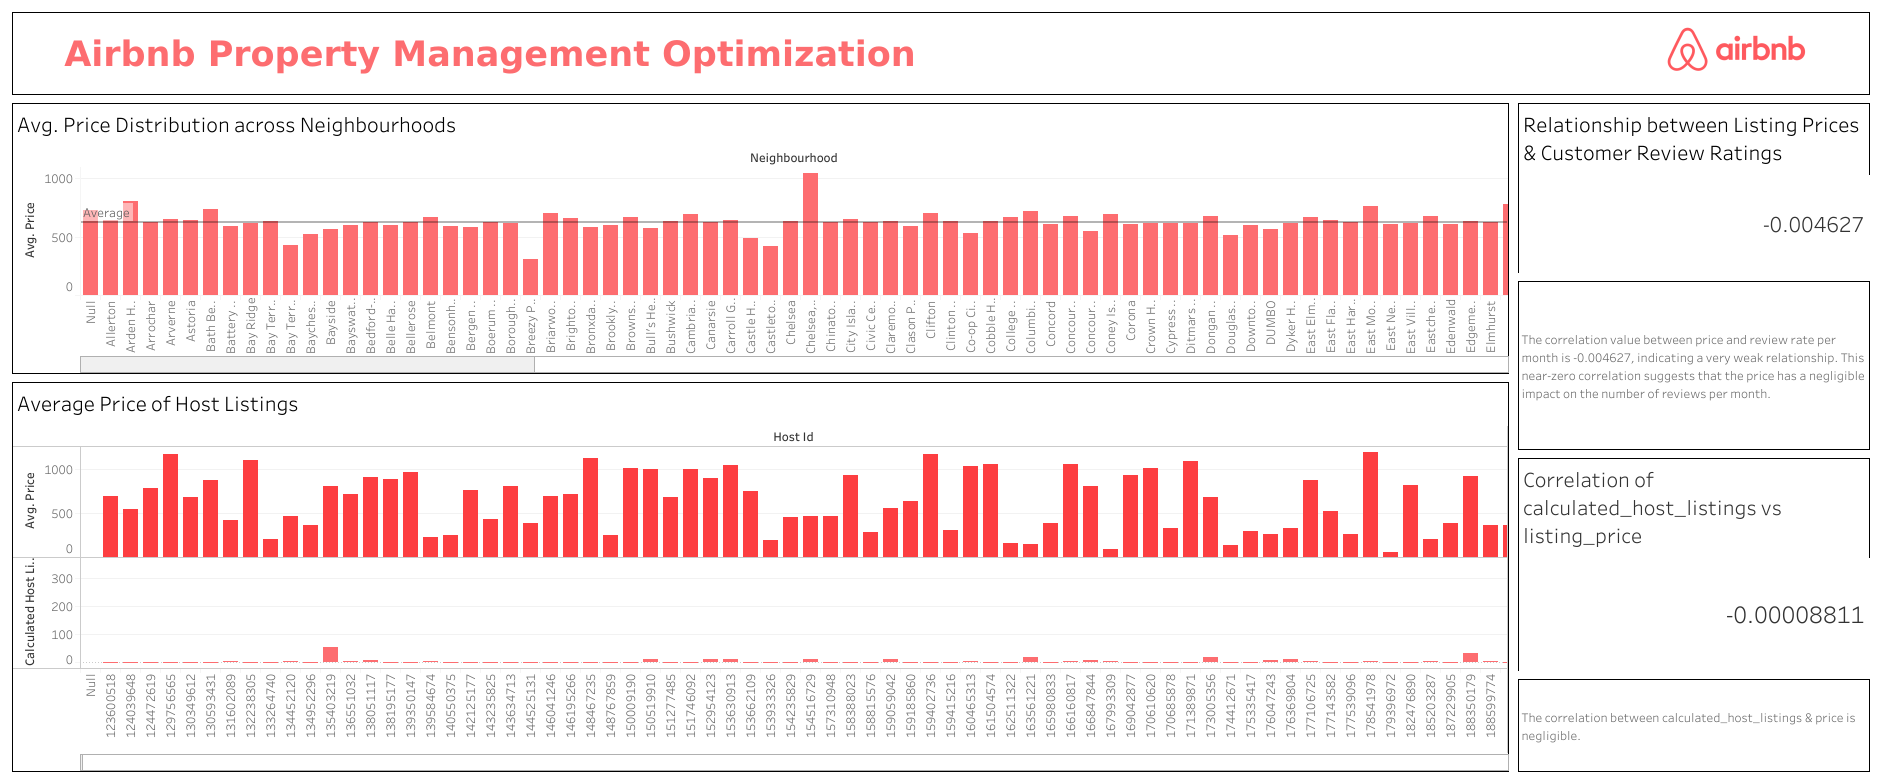

The dashboard page shown, as its layout file describes it:
{"tool":"tableau","page":{"name":"Dashboard 1 (3)","canvas":[1000,1000],"units":"permille","ordinal":2},"visuals":[{"type":"image","param":"E:/Data_Analytics/WsCube/Projects/AirBnb/images/logo.png","box":[879.9,4.9,115.3,115.9]},{"type":"text","box":[4.2,9.9,991.5,115.9]},{"type":"worksheet","title":"Sheet 9","mark":"Automatic","rows":["price"],"cols":["neighbourhood"],"box":[4.2,125.8,800,356.4]},{"type":"worksheet","title":"Sheet 4","mark":"Automatic","box":[804.2,125.8,191.6,226.9]},{"type":"text","box":[804.2,352.7,191.6,226.9]},{"type":"worksheet","title":"Sheet 6","mark":"Automatic","rows":["price","calculated host listings count"],"cols":["host id"],"box":[4.2,482.1,800,508]},{"type":"worksheet","title":"Sheet 7","mark":"Automatic","box":[804.2,579.5,191.6,281.1]},{"type":"text","box":[804.2,860.7,191.6,129.5]}]}

Visuals, with their boxes on the dashboard's canvas, which has no fixed pixel size, in thousandths of its width and height (x1, y1, x2, y2). These are canvas units, not pixel positions in the 1881x783 screenshot, which may show the page scaled, cropped or inside an application window:
image: 880, 5, 995, 121
text: 4, 10, 996, 126
"Sheet 9" worksheet: 4, 126, 804, 482
"Sheet 4" worksheet: 804, 126, 996, 353
text: 804, 353, 996, 580
"Sheet 6" worksheet: 4, 482, 804, 990
"Sheet 7" worksheet: 804, 580, 996, 861
text: 804, 861, 996, 990
